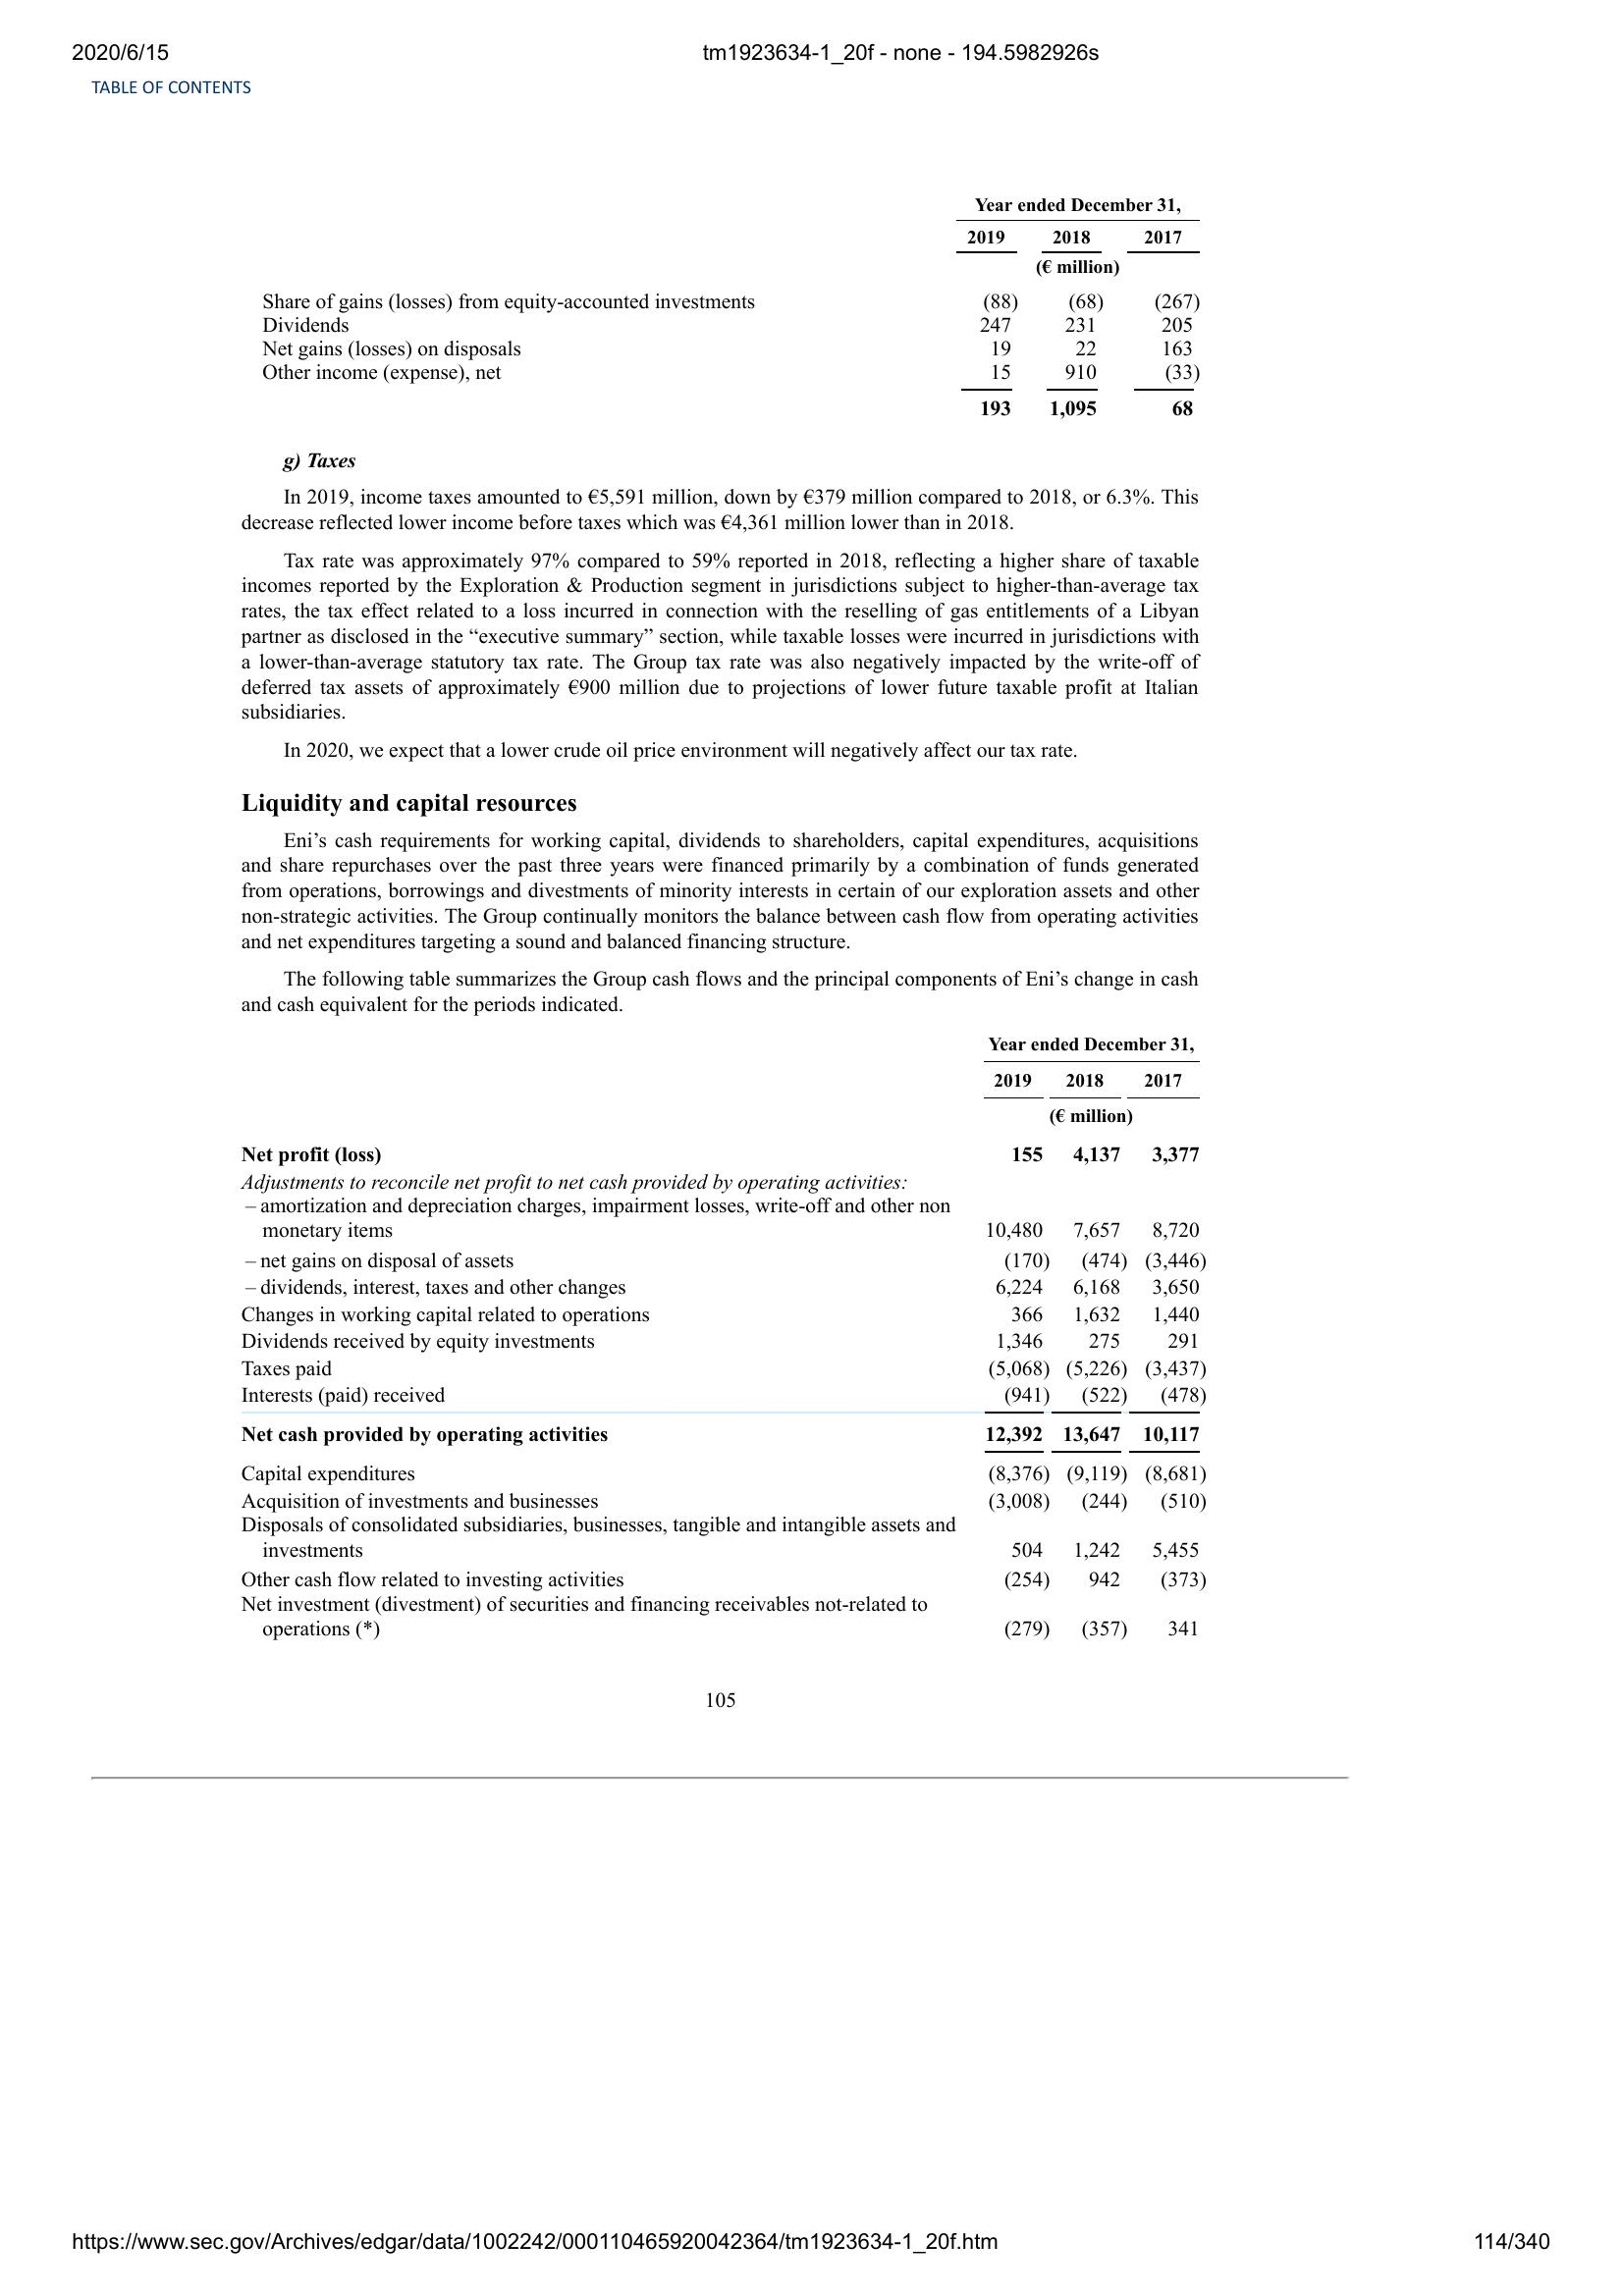table: (237, 1030, 1217, 1647), (262, 190, 1212, 434)
